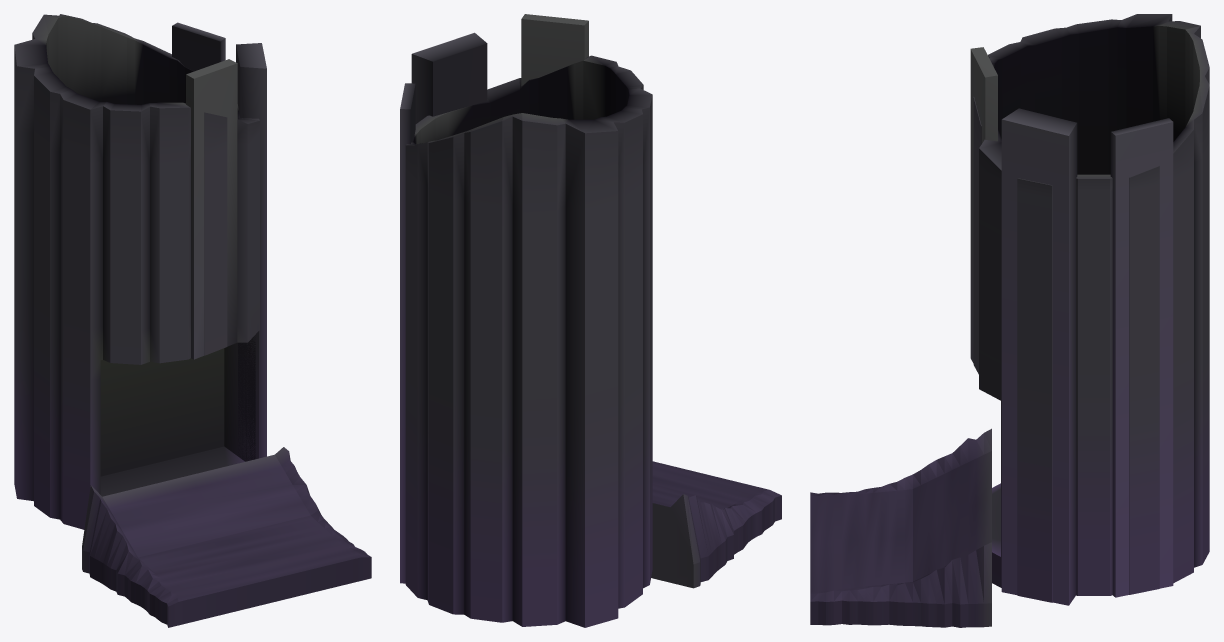
File: nullstone.glb
3 views of the same model, side by side, from view 1: azimuth 30°, elevation 25°; view 2: azimuth 150°, elevation 25°; view 3: azimuth 270°, elevation 25° (orthographic). The views are drawn at different scales.
Visible parts, largest first — view 1: towerSkinNullMass, towerSkinNullShard, towerSkinNullSplinters; view 2: towerSkinNullMass, towerSkinNullSplinters, towerSkinNullShard; view 3: towerSkinNullMass, towerSkinNullSplinters, towerSkinNullShard.
Boxes of the visible parts, bbox=[...] form: towerSkinNullMass: bbox=[14, 14, 259, 529]; towerSkinNullShard: bbox=[82, 447, 371, 627]; towerSkinNullSplinters: bbox=[172, 22, 266, 461]; towerSkinNullMass: bbox=[405, 55, 652, 627]; towerSkinNullSplinters: bbox=[400, 14, 588, 583]; towerSkinNullShard: bbox=[651, 461, 781, 588]; towerSkinNullMass: bbox=[973, 14, 1209, 602]; towerSkinNullSplinters: bbox=[970, 47, 1173, 605]; towerSkinNullShard: bbox=[810, 428, 991, 627].
Bounding box in the file's own units: 6.11 × 12.66 × 8.81.
